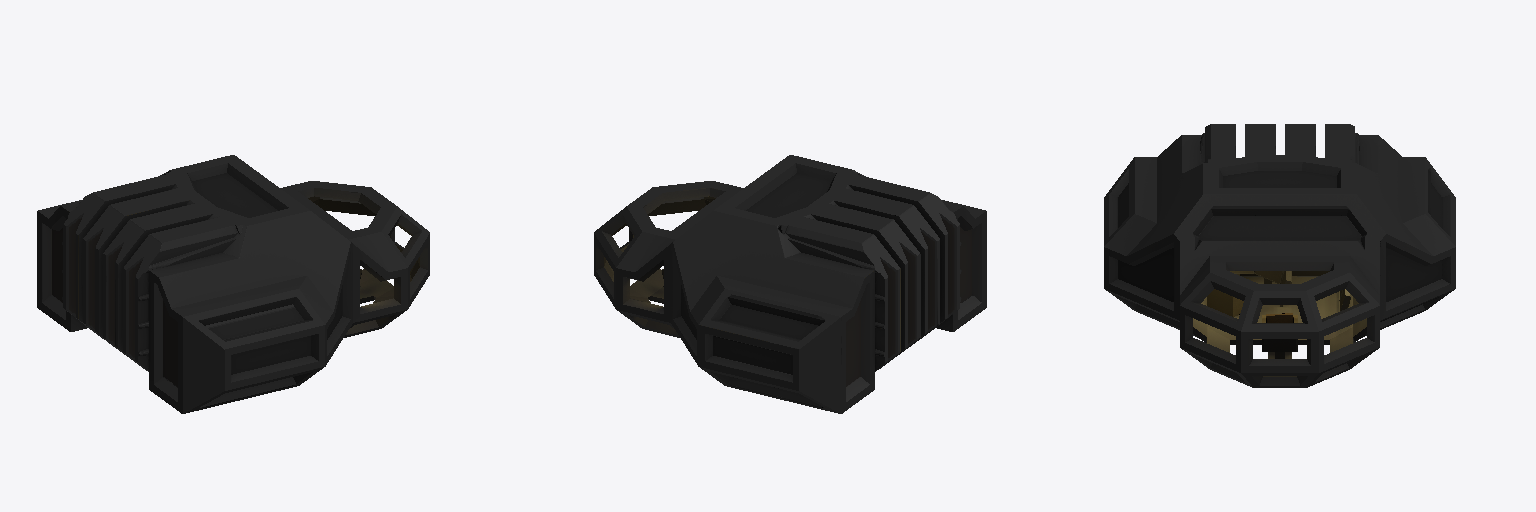
The picture shows the model from 3 angles: view 1: azimuth 30°, elevation 25°; view 2: azimuth 150°, elevation 25°; view 3: azimuth 270°, elevation 25°; orthographic projection.
Visible parts, largest first — view 1: Mesh1_Group1_Model; view 2: Mesh1_Group1_Model; view 3: Mesh1_Group1_Model, Mesh31_Group_36_1_Model, Mesh9_Group_32_2_Group5_Model.
Part boxes in pixels (x1,y1,x2,y2): Mesh1_Group1_Model: (37,155,429,413); Mesh1_Group1_Model: (594,155,986,413); Mesh1_Group1_Model: (1104,124,1455,387); Mesh31_Group_36_1_Model: (1230,271,1350,358); Mesh9_Group_32_2_Group5_Model: (1207,289,1297,322).
Bounding box in the file's own units: 11.85 × 5.08 × 11.66.
Materials: 10 (4 with a texture image).